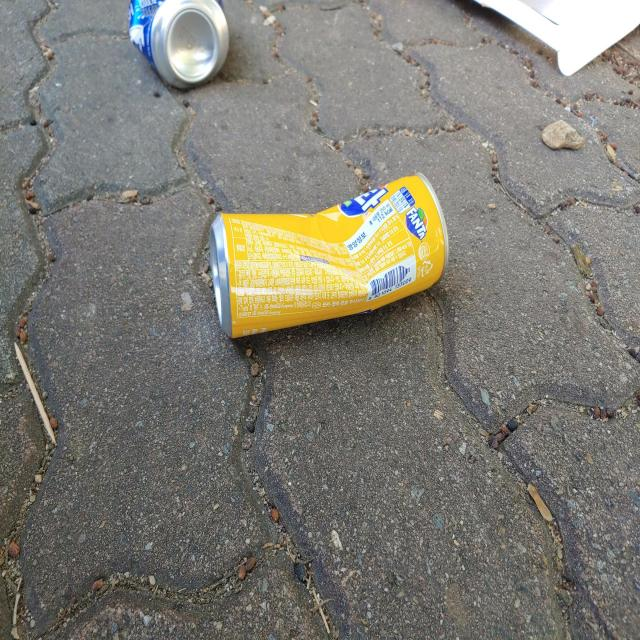can: (210, 173, 449, 338), (128, 0, 229, 87)
